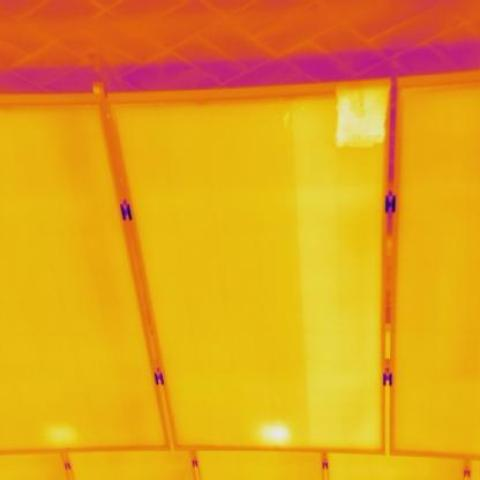fault: (335, 88, 385, 151), (264, 421, 290, 448)
